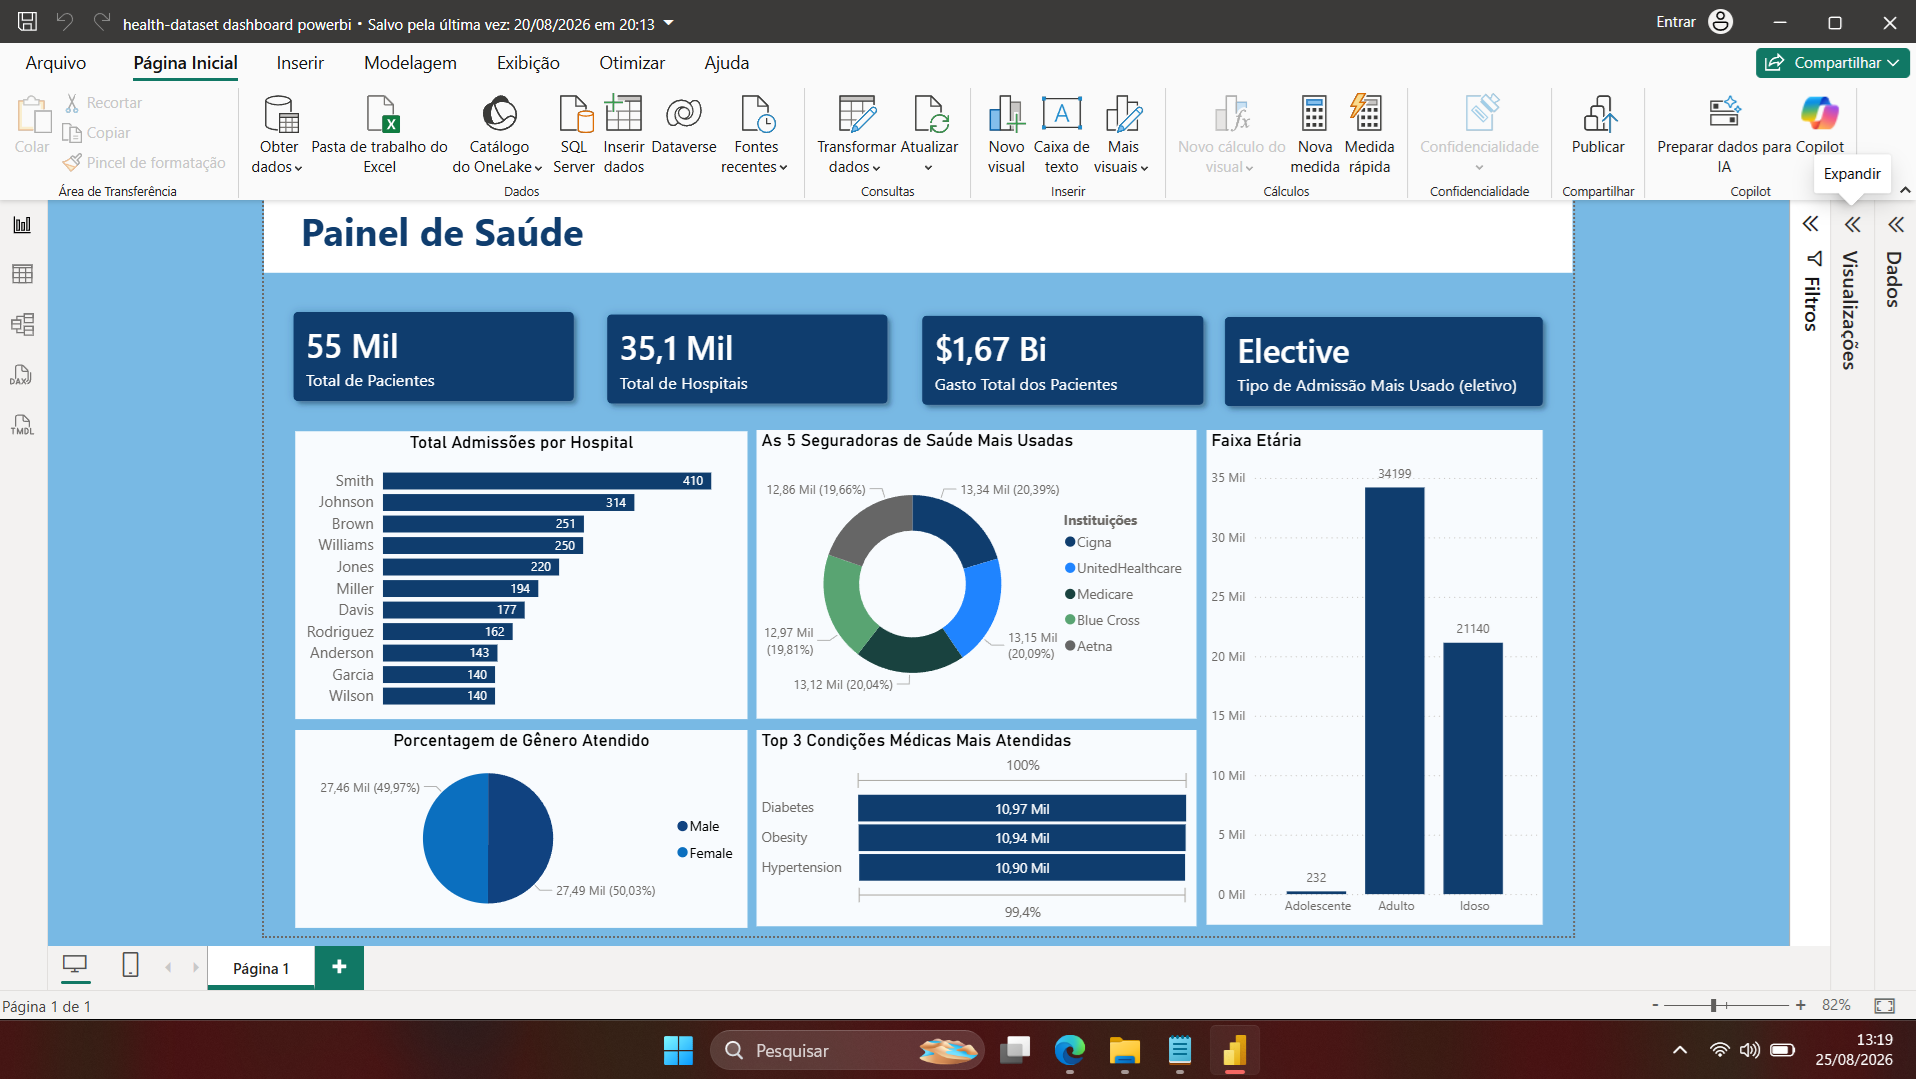

The page's visual inventory and layout, read from the dashboard file:
{"tool":"powerbi","page":{"name":"Página 1","canvas":[1280,720],"ordinal":0},"visuals":[{"type":"cardVisual","fields":{"Data":["dim_pacientes.Total de Pacientes"]},"box":[0,80.9,332,145.8],"z":0},{"type":"cardVisual","fields":{"Data":["dim_hospitais.Total de Hospitais"]},"box":[307.5,83.3,332,145.8],"z":1000},{"type":"barChart","fields":{"Category":["dim_hospitais.Hospital"],"Y":["fato_admissoes.Total Admissões"]},"box":[30.6,226.2,442.7,281.3],"z":2000},{"type":"pieChart","title":"Porcentagem de Gênero Atendido","fields":{"Category":["dim_pacientes.Gender"],"Y":["CountNonNull(dim_pacientes.Gender)"]},"box":[30.6,518.5,442.7,193.2],"z":3000},{"type":"textbox","box":[0,0,1280.3,70.9],"z":4000},{"type":"cardVisual","fields":{"Data":["fato_admissoes.Gasto Total dos Pacientes"]},"box":[615,84.5,333.2,145.8],"z":5000},{"type":"donutChart","title":"As 5 Seguradoras de Saúde Mais Usadas","fields":{"Y":["CountNonNull(fato_admissoes.Insurance_Provider)"],"Category":["fato_admissoes.Insurance_Provider"]},"box":[481.8,225,430.4,282.5],"z":6000},{"type":"funnel","title":"Top 3 Condições Médicas Mais Atendidas","fields":{"Category":["fato_admissoes.Medical_Condition"],"Y":["CountNonNull(fato_admissoes.Medical_Condition)"]},"box":[481.8,518.5,430.4,192],"z":7000},{"type":"clusteredColumnChart","title":"Faixa Etária","fields":{"Category":["fato_admissoes.Faixa Etaria"],"Y":["dim_pacientes.Total Pacientes Unicos"]},"box":[922,225,328.9,484.2],"z":8000},{"type":"cardVisual","fields":{"Data":["fato_admissoes.Tipo Admissao Mais Usado"]},"box":[911,85.6,369.3,145.5],"z":8001}]}

Visuals, with their boxes on the page's 1280x720 design canvas (x1, y1, x2, y2). These are canvas units, not pixel positions in the 1916x1079 screenshot, which may show the page scaled, cropped or inside an application window:
cardVisual - dim_pacientes.Total de Pacientes: rect(0, 81, 332, 227)
cardVisual - dim_hospitais.Total de Hospitais: rect(308, 83, 640, 229)
barChart - dim_hospitais.Hospital x fato_admissoes.Total Admissões: rect(31, 226, 473, 508)
"Porcentagem de Gênero Atendido" pieChart: rect(31, 518, 473, 712)
textbox: rect(0, 0, 1280, 71)
cardVisual - fato_admissoes.Gasto Total dos Pacientes: rect(615, 84, 948, 230)
"As 5 Seguradoras de Saúde Mais Usadas" donutChart: rect(482, 225, 912, 508)
"Top 3 Condições Médicas Mais Atendidas" funnel: rect(482, 518, 912, 710)
"Faixa Etária" clusteredColumnChart: rect(922, 225, 1251, 709)
cardVisual - fato_admissoes.Tipo Admissao Mais Usado: rect(911, 86, 1280, 231)
